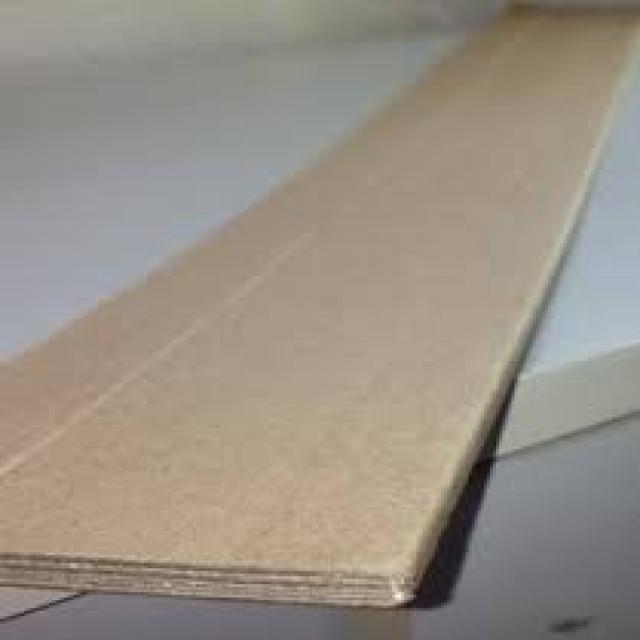cardboard: (0, 0, 637, 608)
